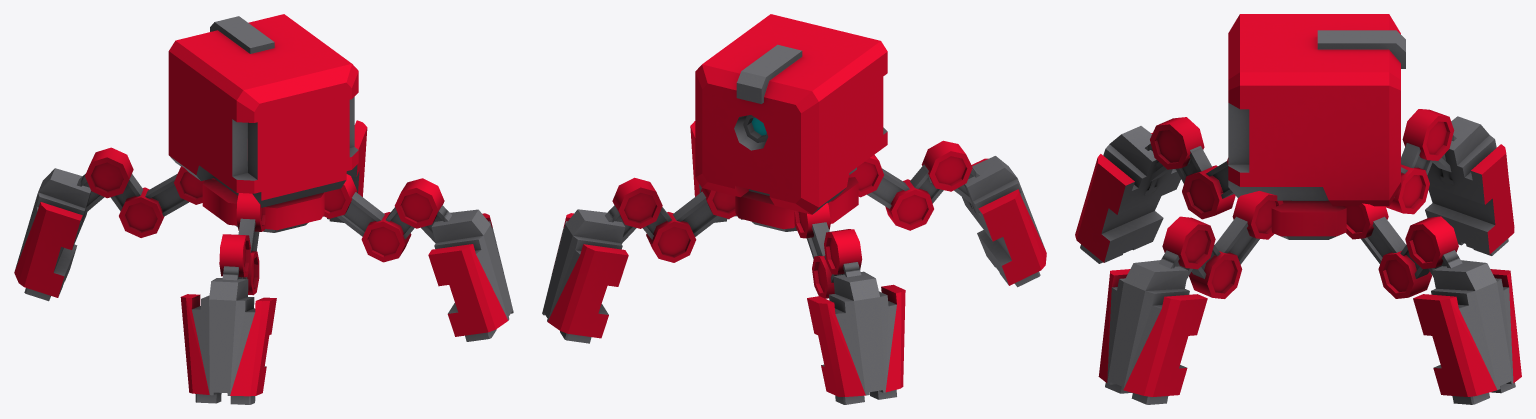
The model's file is Monster1_Move34.obj.
3 renders of one model, left to right at view 1: azimuth 30°, elevation 25°; view 2: azimuth 150°, elevation 25°; view 3: azimuth 270°, elevation 25°, orthographic. The views are drawn at different scales.
Parts seen in each view (by area): view 1: Box006, Object021, Object017, Object025, Object020, Object028, Object027, Object018, Object019, Object026, Object024, Object022 (+2 smaller); view 2: Box006, Object025, Object013, Object021, Object016, Object023, Object024, Object015, Object014, Object022, Object028, Object026 (+1 smaller); view 3: Box006, Object013, Object017, Object021, Object025, Object018, Object023, Object016, Object020, Object024, Object014, Object028 (+4 smaller).
Boxes of the visible parts, x1,y1,x2,y2 form: Box006: (168,14,358,232); Object021: (180,278,276,404); Object017: (428,209,513,341); Object025: (14,168,91,301); Object020: (394,178,451,242); Object028: (77,147,133,213); Object027: (110,174,163,237); Object018: (323,174,384,236); Object019: (361,207,414,262); Object026: (145,166,215,216); Object024: (219,234,250,280); Object022: (236,193,265,252); Box006: (695,14,887,231); Object025: (807,271,905,404); Object013: (542,209,628,343); Object021: (962,156,1046,287); Object016: (605,177,662,243); Object023: (885,164,943,230); Object024: (921,140,979,204); Object015: (642,207,696,262); Object014: (672,188,736,236); Object022: (848,154,909,208); Object028: (824,229,862,277); Object026: (794,203,830,258); Box006: (1228,14,1405,239); Object013: (1413,260,1521,404); Object017: (1098,260,1207,404); Object021: (1075,126,1180,263); Object025: (1425,116,1514,255); Object018: (1215,191,1283,264); Object023: (1176,146,1235,219); Object016: (1405,216,1462,277); Object020: (1159,216,1215,279); Object024: (1145,117,1204,181); Object014: (1343,203,1405,263); Object028: (1402,109,1456,171).
Bounding box in the file's own units: 150 × 108 × 153.
